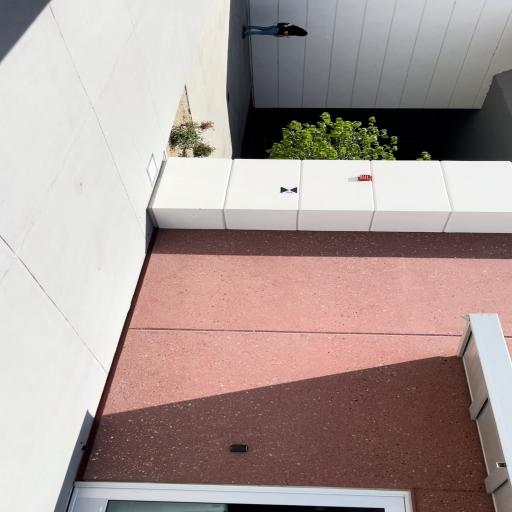target2: (280, 186, 298, 194)
